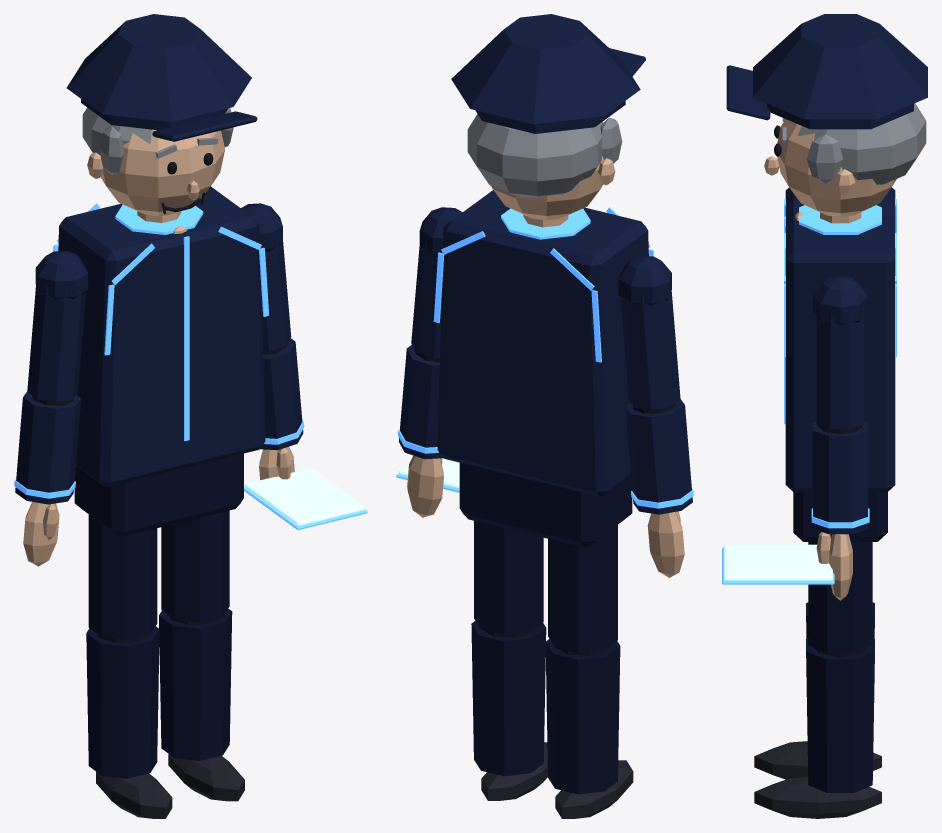
The model's file is minato.glb.
3 views of the same model, side by side, from view 1: azimuth 30°, elevation 25°; view 2: azimuth 150°, elevation 25°; view 3: azimuth 270°, elevation 25° (orthographic). The views are drawn at different scales.
Parts seen in each view (by area): view 1: torso, cap, head, lowerLeg.R, lowerLeg.L, hips, upperLeg.R, upperArm.R, upperLeg.L, lowerArm.R, tablet, lowerArm.L (+5 smaller); view 2: torso, cap, head, lowerLeg.R, lowerLeg.L, hips, upperArm.R, upperLeg.R, upperLeg.L, lowerArm.R, lowerArm.L, upperArm.L (+5 smaller); view 3: torso, cap, head, lowerLeg.L, upperArm.L, lowerArm.L, upperLeg.L, tablet, foot.L, hips, foot.R, hand.L.
Part boxes in pixels (bbox=[...]): torso: bbox=[53, 186, 269, 486]; cap: bbox=[66, 14, 257, 141]; head: bbox=[82, 107, 233, 222]; lowerLeg.R: bbox=[86, 626, 159, 778]; lowerLeg.L: bbox=[159, 608, 232, 760]; hips: bbox=[74, 453, 243, 536]; upperLeg.R: bbox=[88, 514, 157, 639]; upperArm.R: bbox=[27, 251, 88, 401]; upperLeg.L: bbox=[161, 510, 229, 622]; lowerArm.R: bbox=[14, 391, 81, 504]; tablet: bbox=[244, 468, 367, 529]; lowerArm.L: bbox=[259, 338, 304, 450]; torso: bbox=[433, 190, 653, 496]; cap: bbox=[451, 14, 645, 133]; head: bbox=[467, 114, 622, 227]; lowerLeg.R: bbox=[545, 639, 620, 794]; lowerLeg.L: bbox=[471, 621, 546, 776]; hips: bbox=[459, 462, 632, 547]; upperArm.R: bbox=[618, 255, 680, 410]; upperLeg.R: bbox=[548, 524, 617, 652]; upperLeg.L: bbox=[474, 520, 543, 634]; lowerArm.R: bbox=[625, 399, 693, 514]; lowerArm.L: bbox=[398, 345, 443, 459]; upperArm.L: bbox=[411, 207, 462, 358]; torso: bbox=[784, 187, 896, 492]; cap: bbox=[726, 14, 927, 129]; head: bbox=[764, 103, 926, 223]; lowerLeg.L: bbox=[806, 638, 874, 792]; upperArm.L: bbox=[813, 276, 867, 429]; lowerArm.L: bbox=[811, 421, 869, 534]; upperLeg.L: bbox=[808, 538, 872, 653]; tablet: bbox=[722, 544, 834, 584]; foot.L: bbox=[754, 777, 881, 818]; hips: bbox=[793, 492, 887, 541]; foot.R: bbox=[754, 741, 881, 779]; hand.L: bbox=[816, 532, 852, 600].
Size of the model in its own units: 0.678 by 1.7 by 0.4135.
